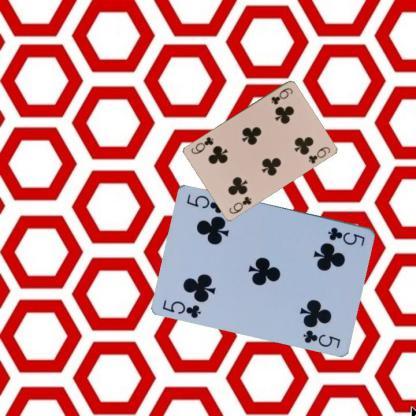5c: (160, 297, 202, 319), (326, 224, 366, 247)
6c: (227, 193, 253, 215), (269, 85, 294, 106)
